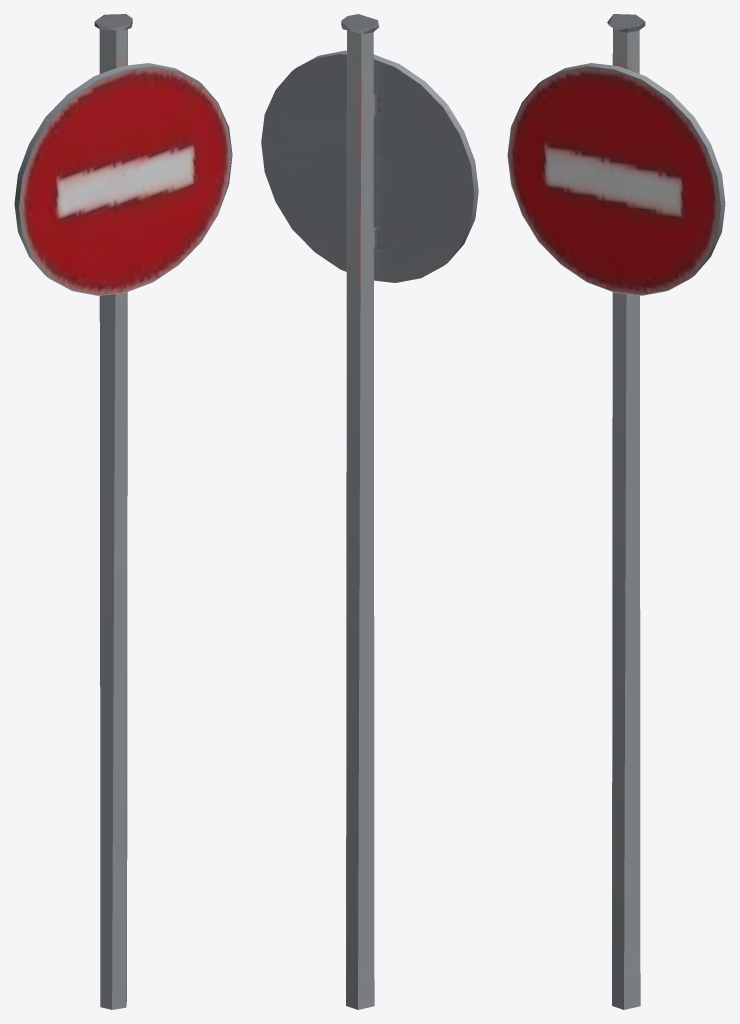
File: sign_noEntry.glb
3 views of the same model, side by side, from view 1: azimuth 30°, elevation 25°; view 2: azimuth 150°, elevation 25°; view 3: azimuth 330°, elevation 25° (orthographic).
Visible parts, largest first — view 1: sign_noEntry_LOD0; view 2: sign_noEntry_LOD0; view 3: sign_noEntry_LOD0.
Boxes of the visible parts, left/top/right/bottom form: sign_noEntry_LOD0: left=14, top=14, right=232, bottom=1009; sign_noEntry_LOD0: left=261, top=14, right=478, bottom=1009; sign_noEntry_LOD0: left=507, top=14, right=725, bottom=1009.
Size of what is drawn, in the model's own units: 0.6055 by 2.66 by 0.1074.
1 material, 1 textured.
